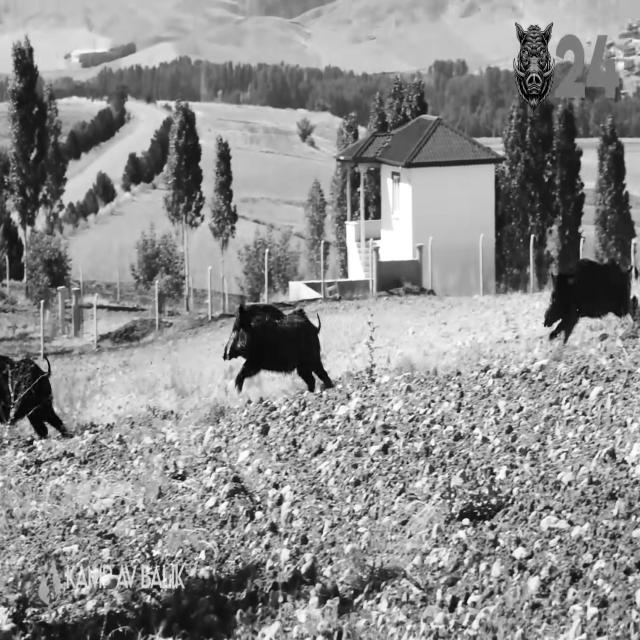boar: (223, 303, 332, 391)
